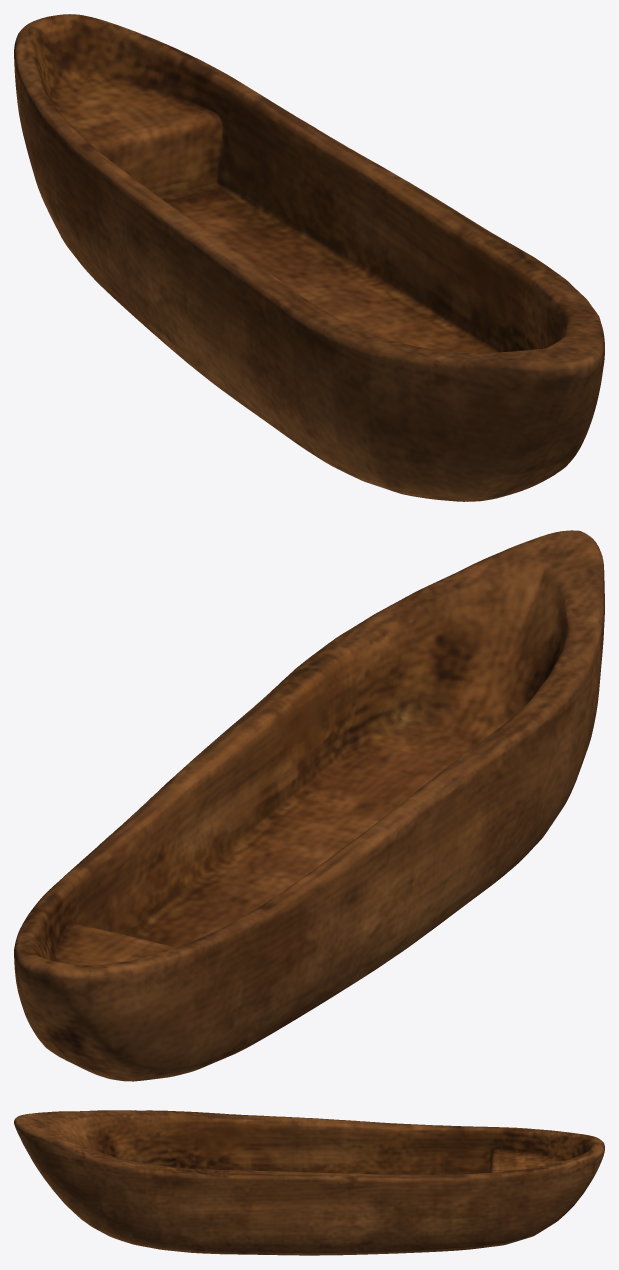
Rendered from dense-res1024.glb.
The picture shows the model from 3 angles, top to bottom: view 1: azimuth 30°, elevation 25°; view 2: azimuth 150°, elevation 25°; view 3: azimuth 270°, elevation 25°; orthographic projection. The views are drawn at different scales.
Size of the model in its own units: 0.2632 by 0.2394 by 1.
Materials: 1 (1 with a texture image).
